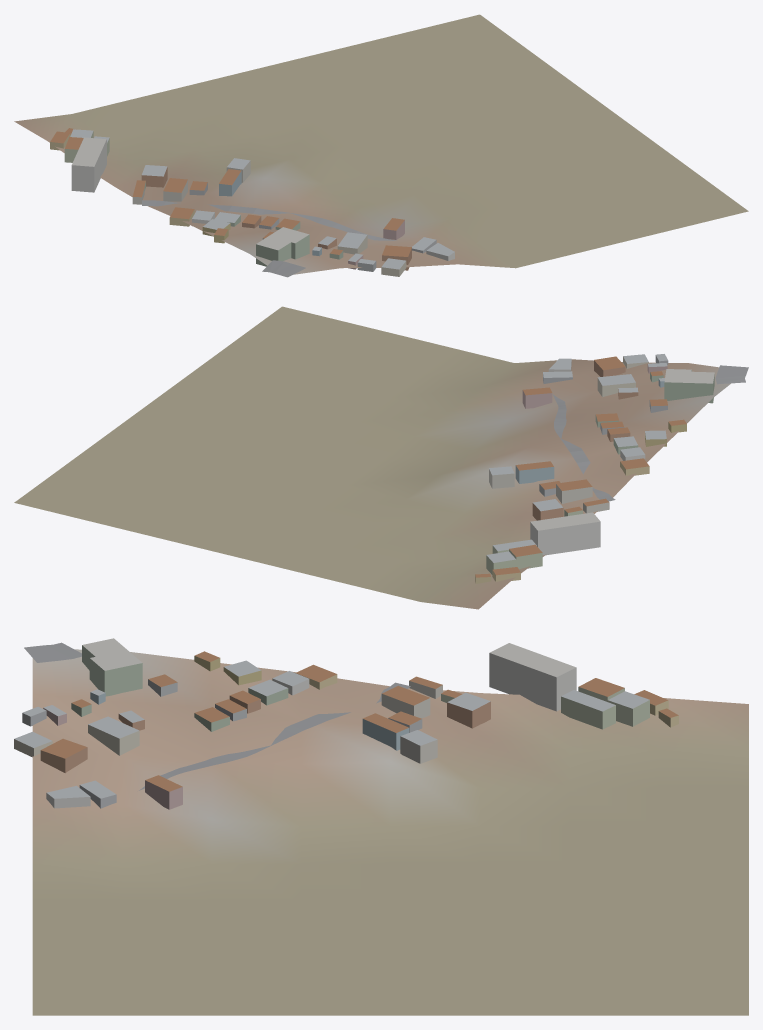
3 renders of one model, top to bottom at view 1: azimuth 30°, elevation 25°; view 2: azimuth 150°, elevation 25°; view 3: azimuth 270°, elevation 25°, orthographic. The views are drawn at different scales.
Parts seen in each view (by area): view 1: Lo; view 2: Lo; view 3: Lo.
Boxes of the visible parts, x1,y1,x2,y2 form: Lo: (14,14,748,277); Lo: (14,306,748,609); Lo: (14,638,748,1015).
Size of the model in its own units: 274 by 30.32 by 263.
